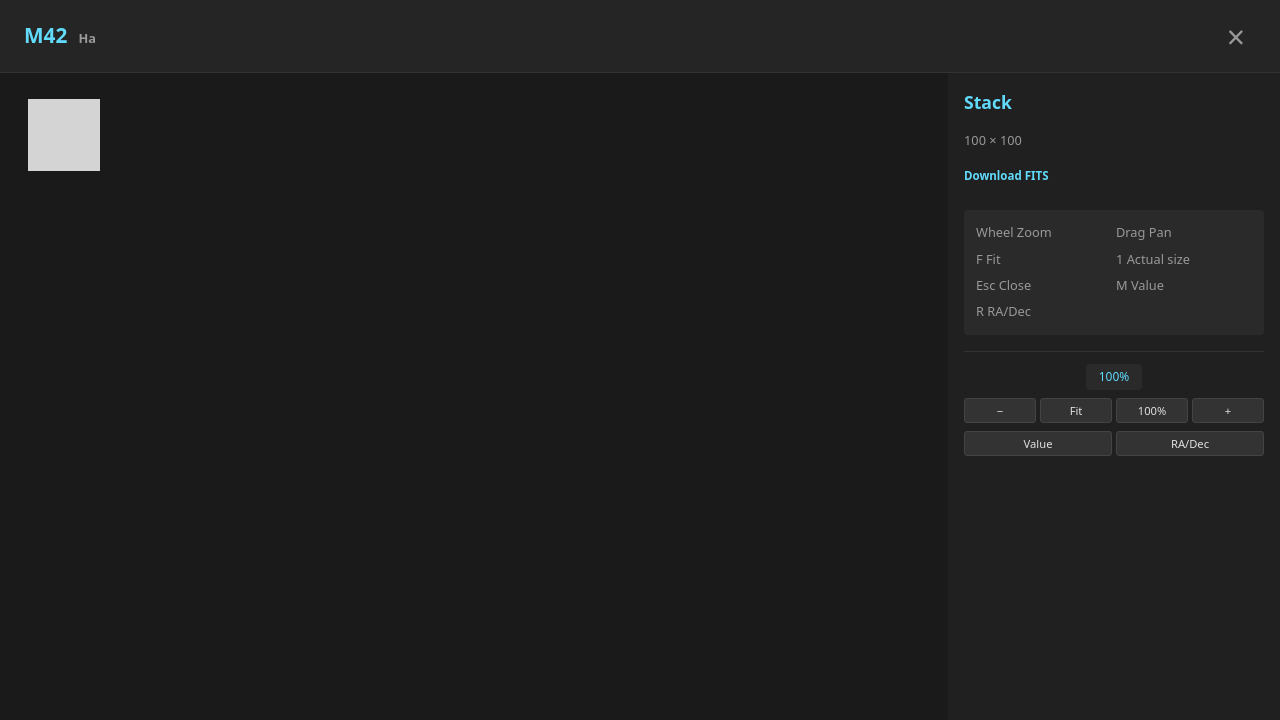
Test: StackPreviewInspector pointer readout › reads the linear value under the pointer from the stack file
The width and height of the screenshot is (1280, 720).
Click the button "Value". click: (1038, 444)
box: [964,431,1112,456]
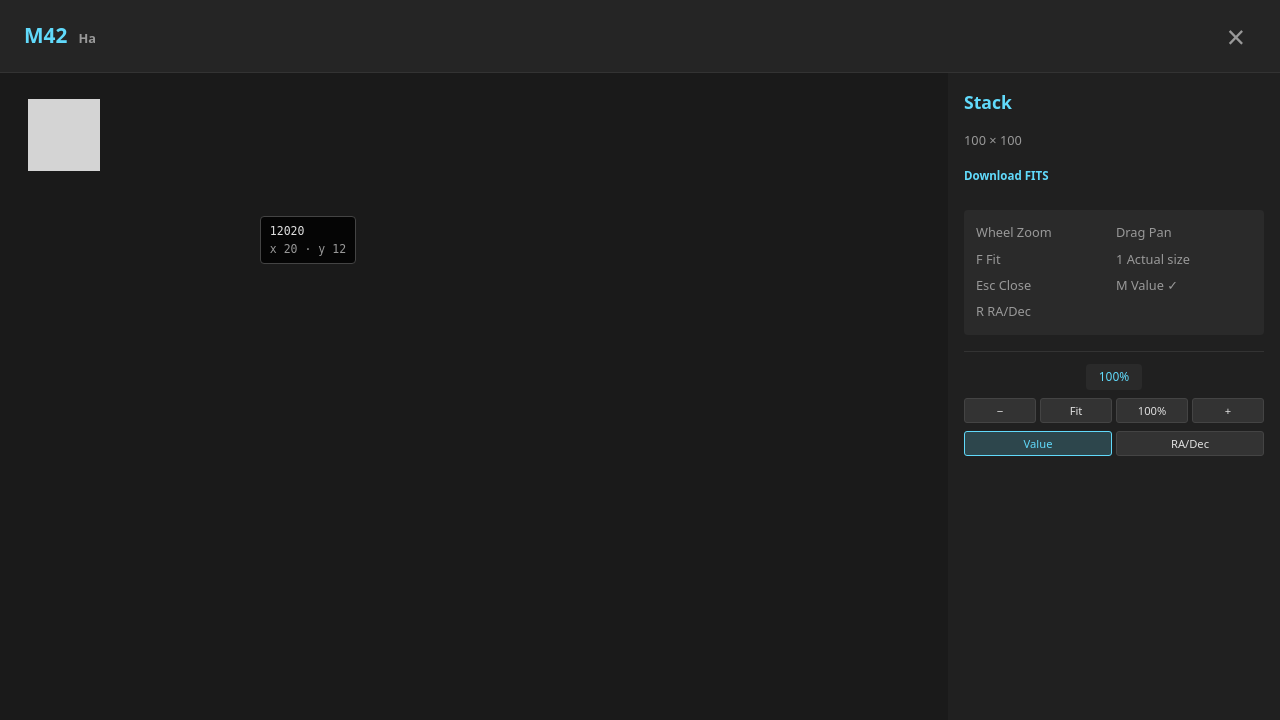
Now the text "12020" is shown, box [270,224,304,238]
Now the text "x 20 · y 12" is shown, box [270,241,346,257]
Move the pointer off the element showing "12020 x 20 · y 12", box [28,99,356,264]
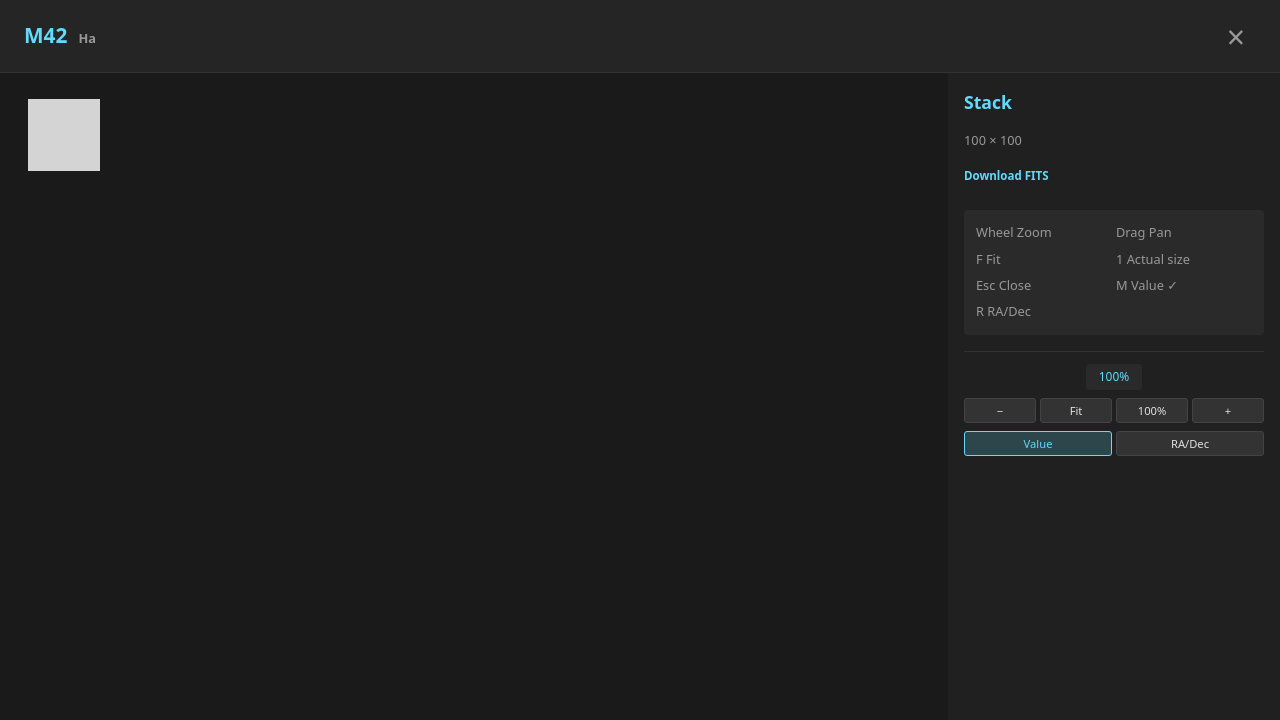
Now the element with test id "pointer-readout" is gone
